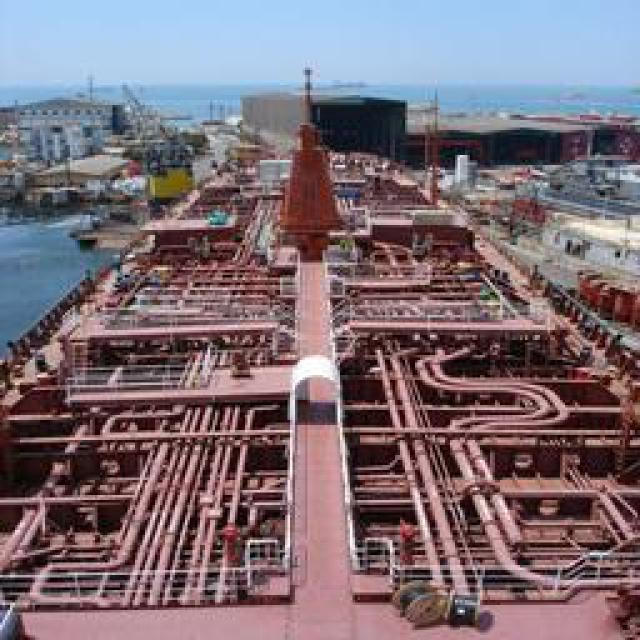Ship: (9, 139, 622, 514)
